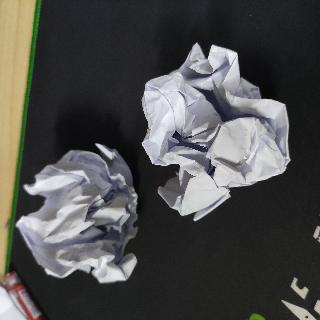8/可回收垃圾/纸: (140, 41, 291, 222), (13, 141, 140, 287)
